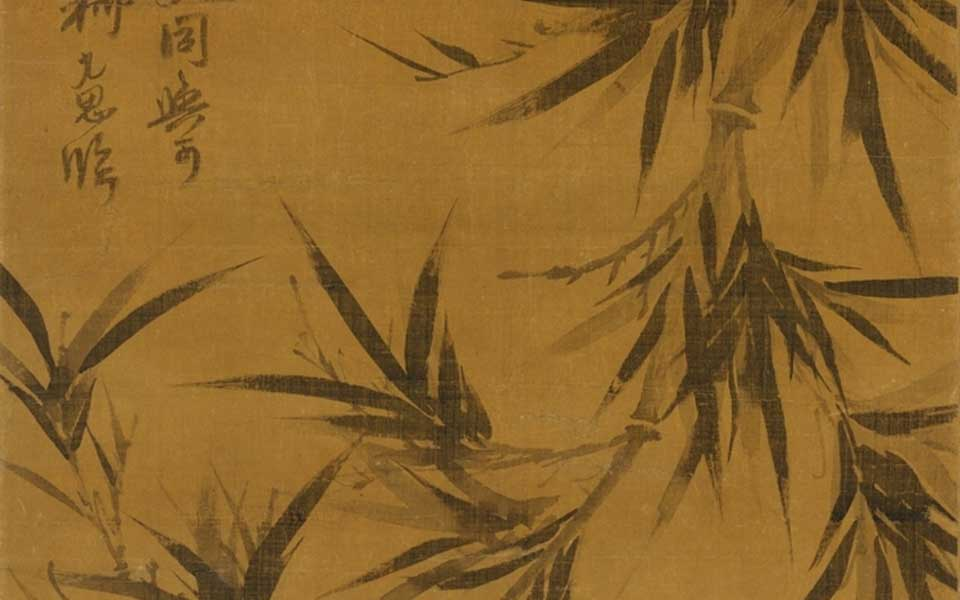bamboo: (232, 216, 559, 600), (544, 176, 854, 504), (1, 266, 162, 499), (670, 2, 783, 178)
